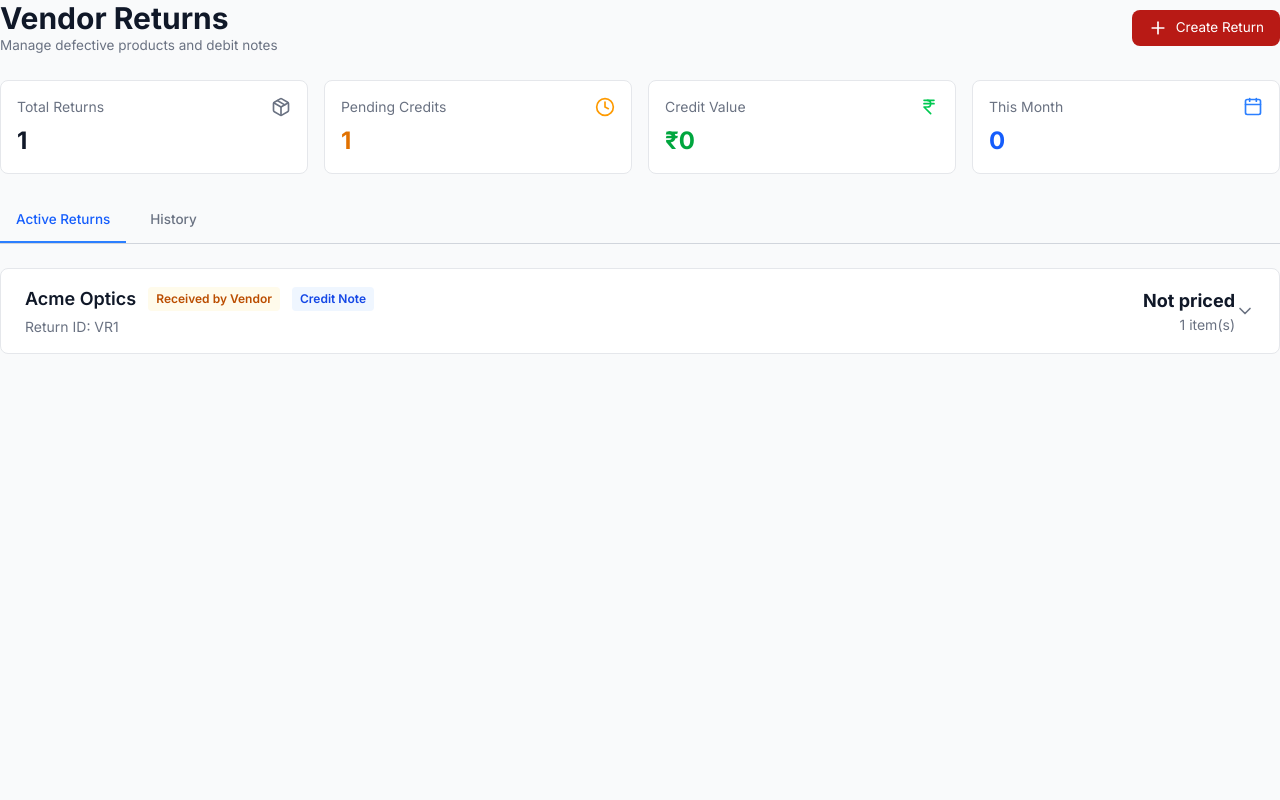
Test: An unpriced return: the accounts roles set its prices before the credit › ACCOUNTANT: supplier evidence may be recorded while unpriced; internal issue waits for prices
Click the heading "Acme Optics": [81, 299] box [25,285,136,313]
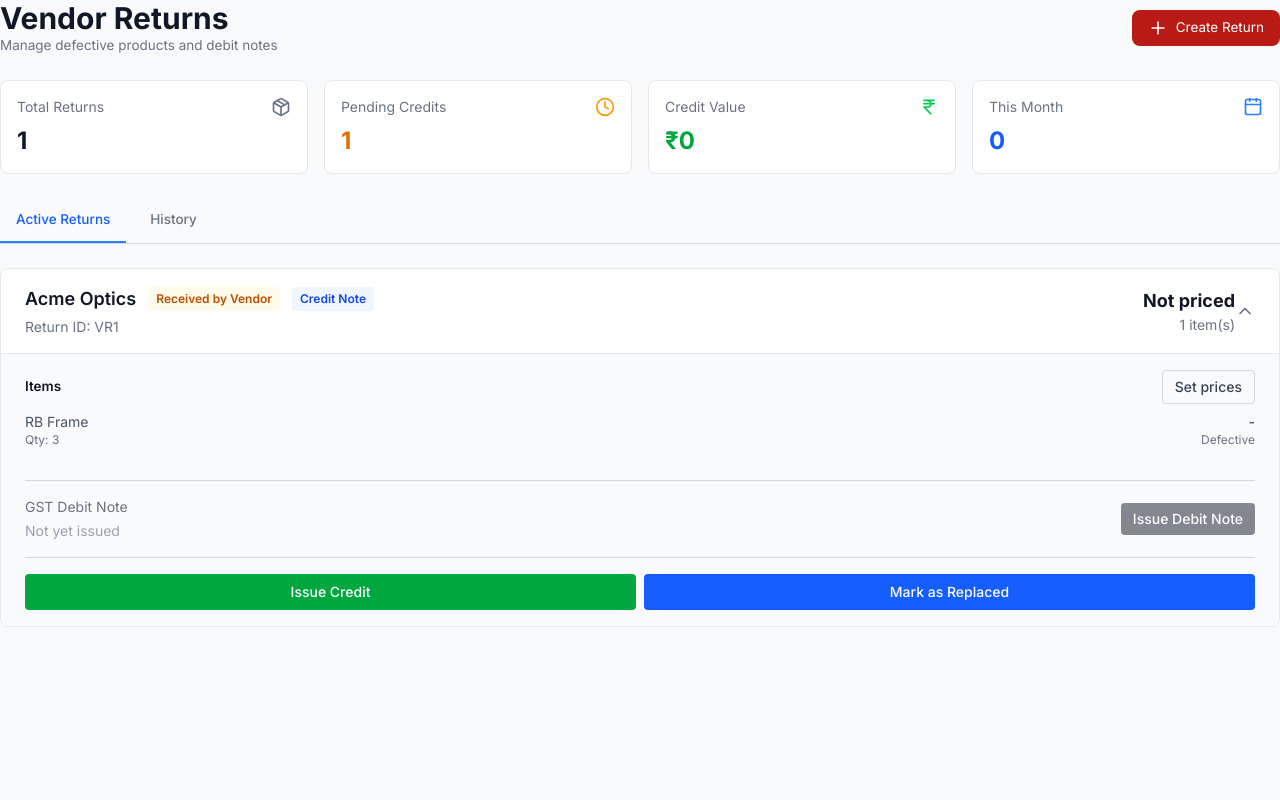
Now the text "RB Frame" is shown, box [25,412,88,432]
Now the button "Issue Credit" is enabled, box [25,574,636,610]
Now the button "Issue Debit Note" is disabled, box [1121,503,1255,535]
Click the button "Set prices": [1208, 387] box [1162,370,1255,404]
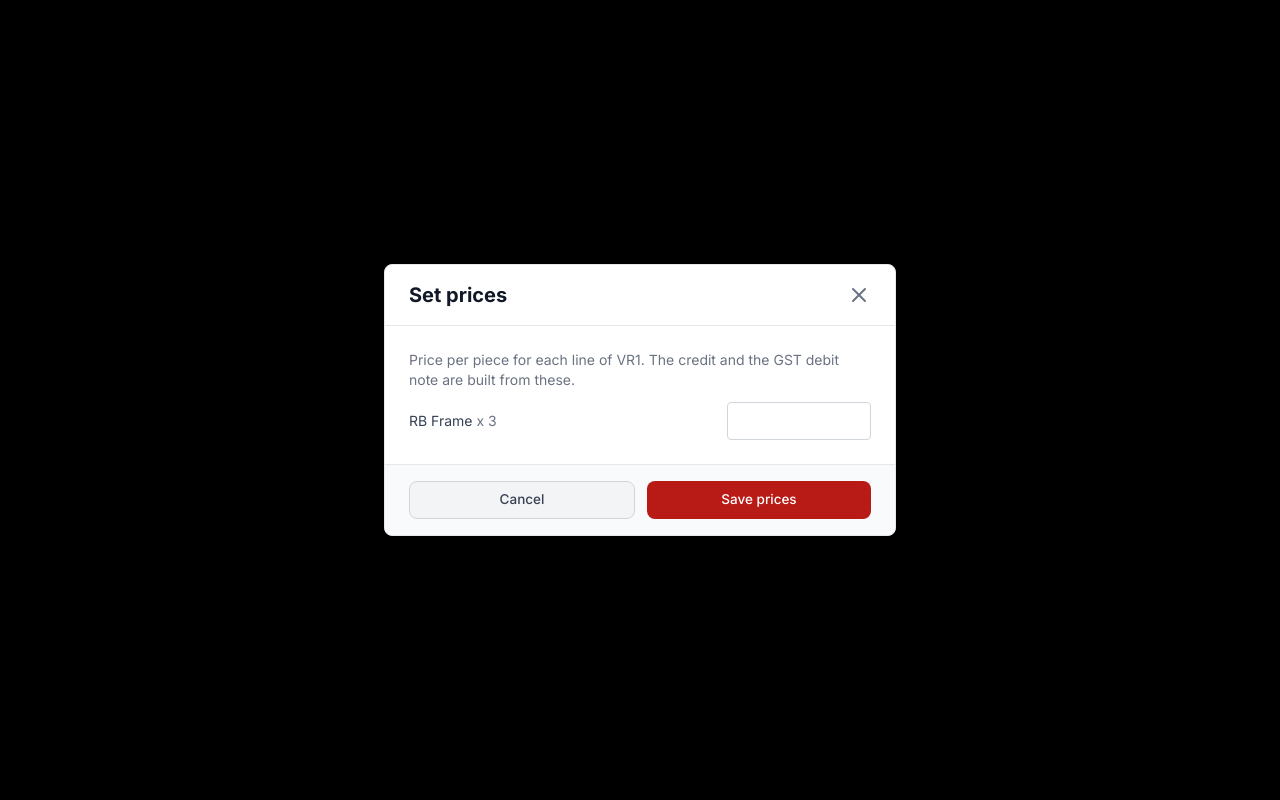
In the number field named "Price per piece for RB Frame": [799, 421] box [727,402,871,440], type "100"
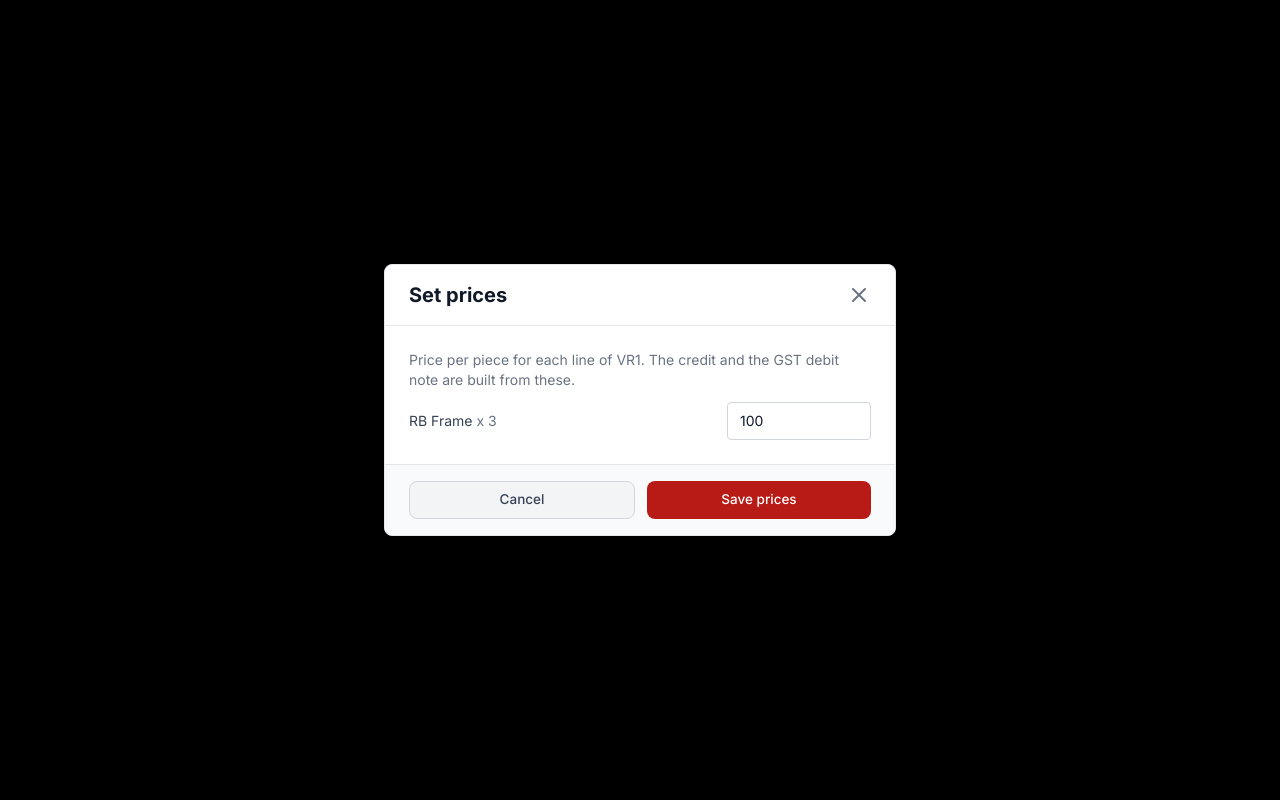
Click the button "Save prices": [759, 500] box [647,481,871,519]
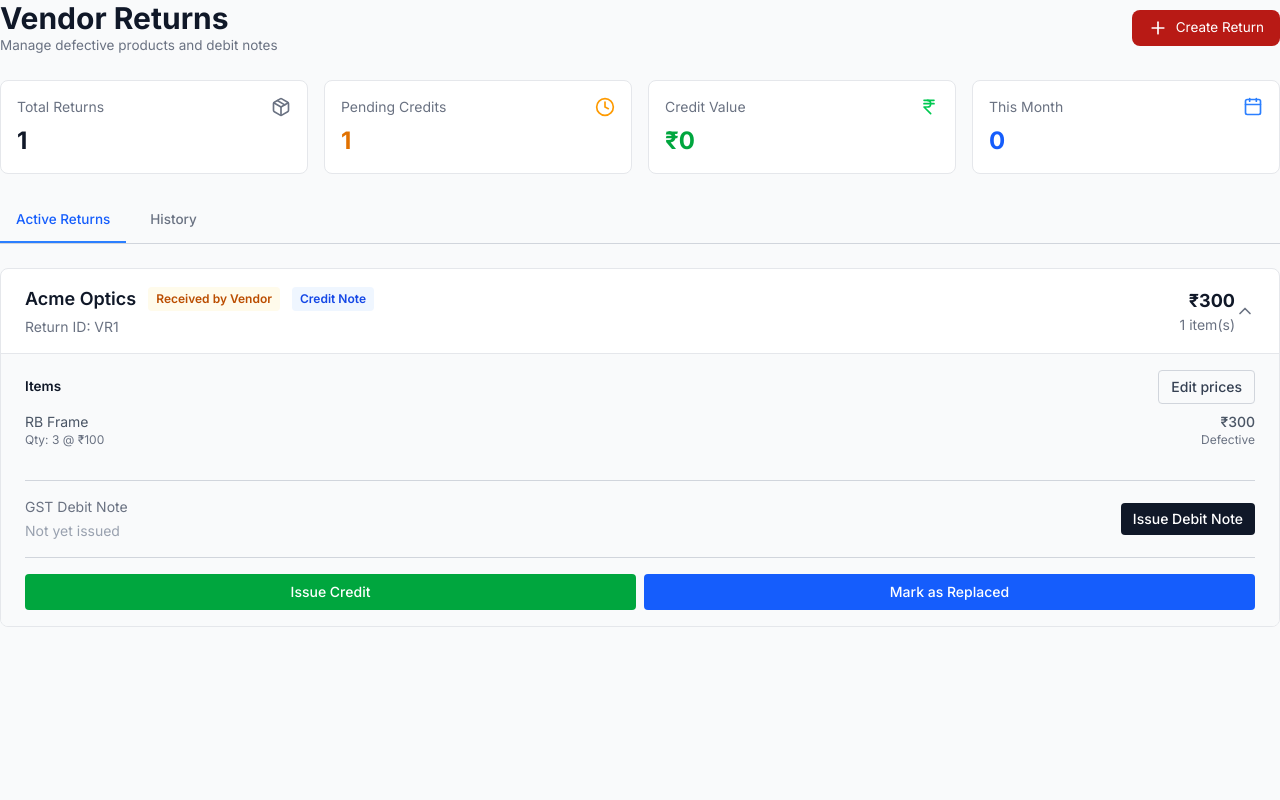
Now the button "Issue Credit" is enabled, box [25,574,636,610]
Now the button "Issue Debit Note" is enabled, box [1121,503,1255,535]
Now the text "₹300" is shown, box [1189,290,1235,311]
